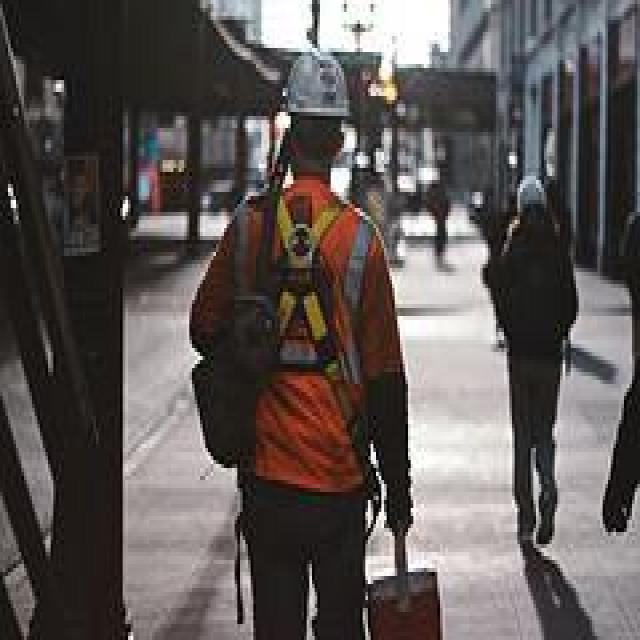reflective_jacket: (186, 175, 402, 512)
safety_helmet: (269, 40, 359, 136), (512, 172, 552, 220)
